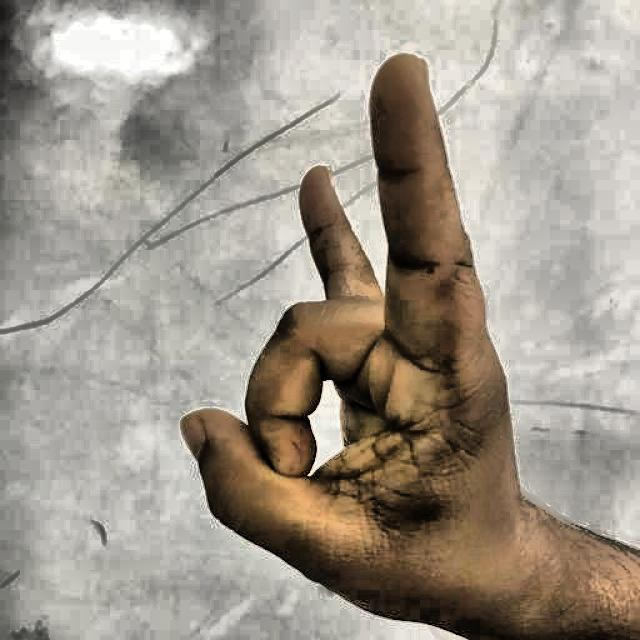Cha: (102, 24, 552, 640)
